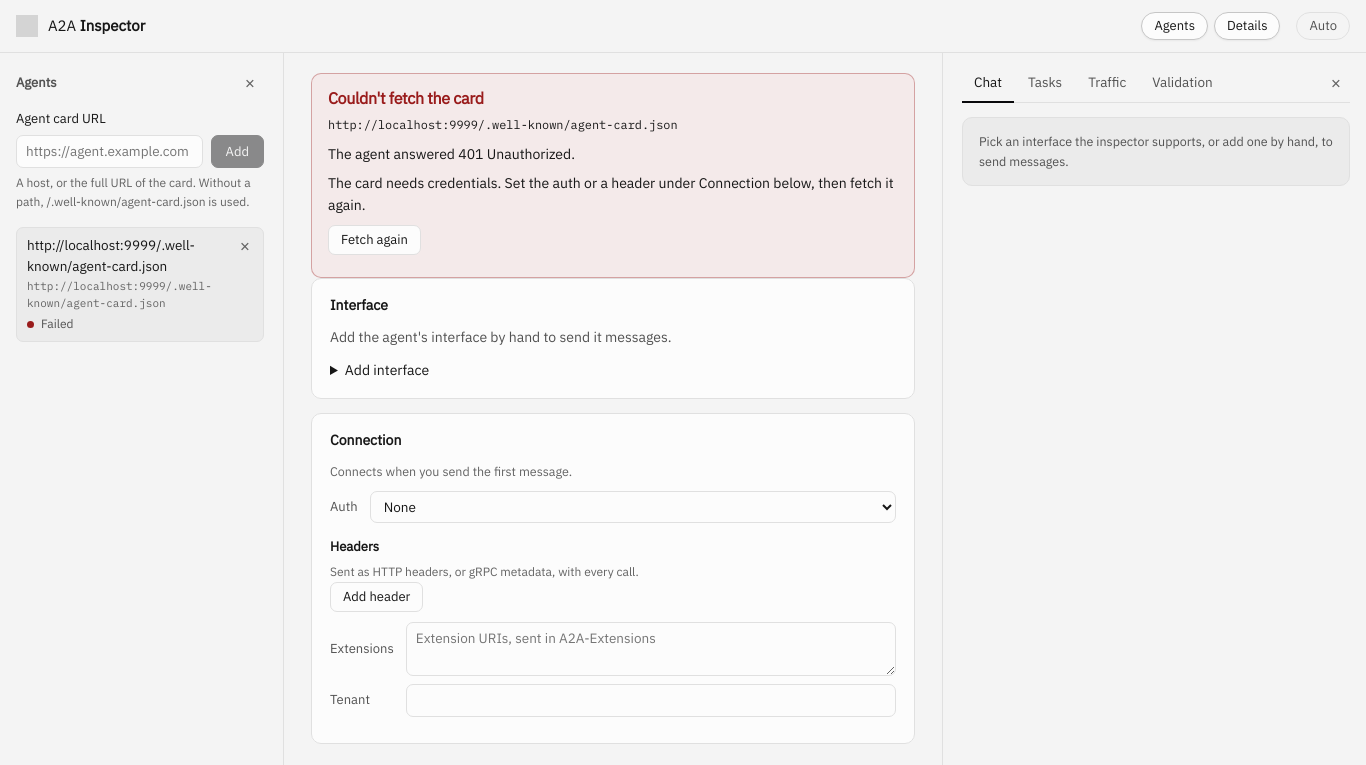
Test: App › talking to agents › fetches a protected card again with the auth set after a 401
Expected: the text "needs credentials" is shown, [328,174,894,214]
Step 1. Select "Bearer token" in the dropdown labelled "Auth" → (633,507), box [370,491,896,523]
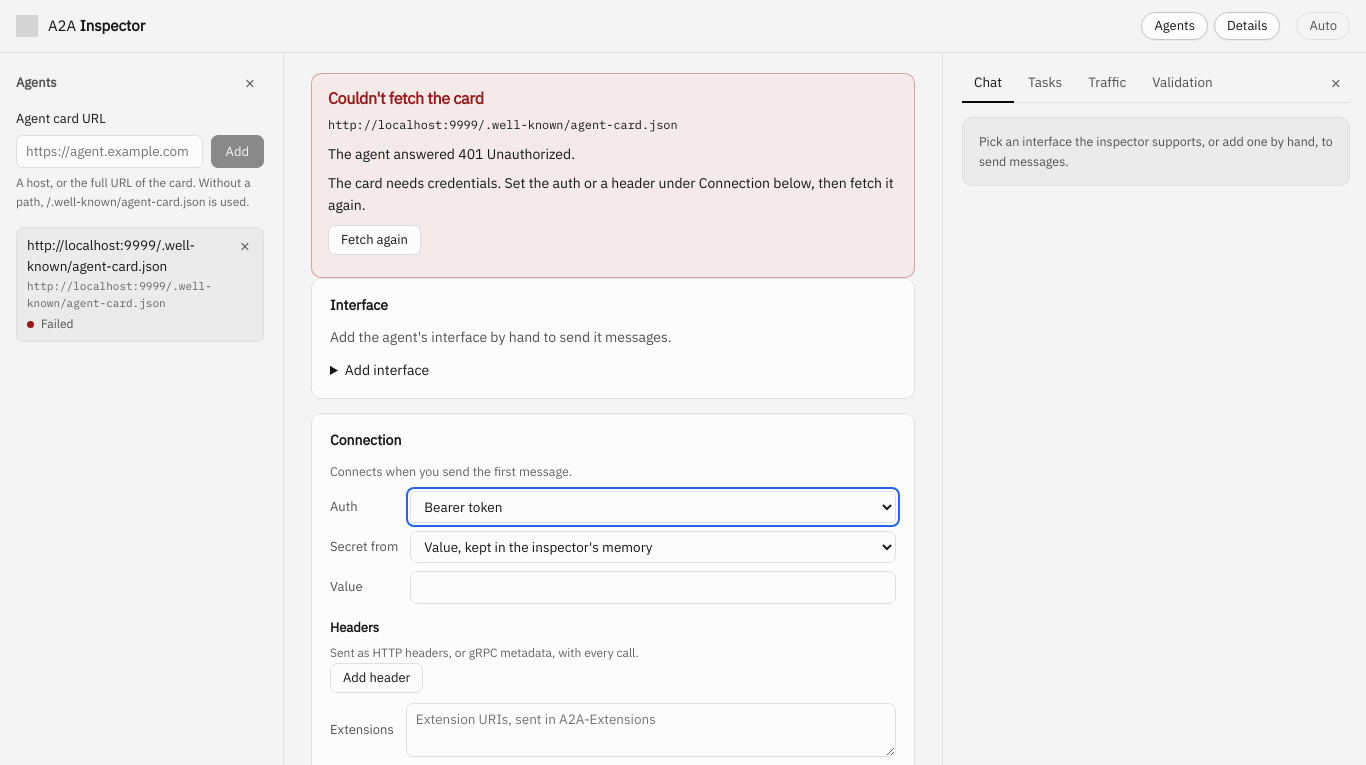
Step 2. Type "card-token" into the password field labelled "Value" → (653,587), box [410,571,896,604]
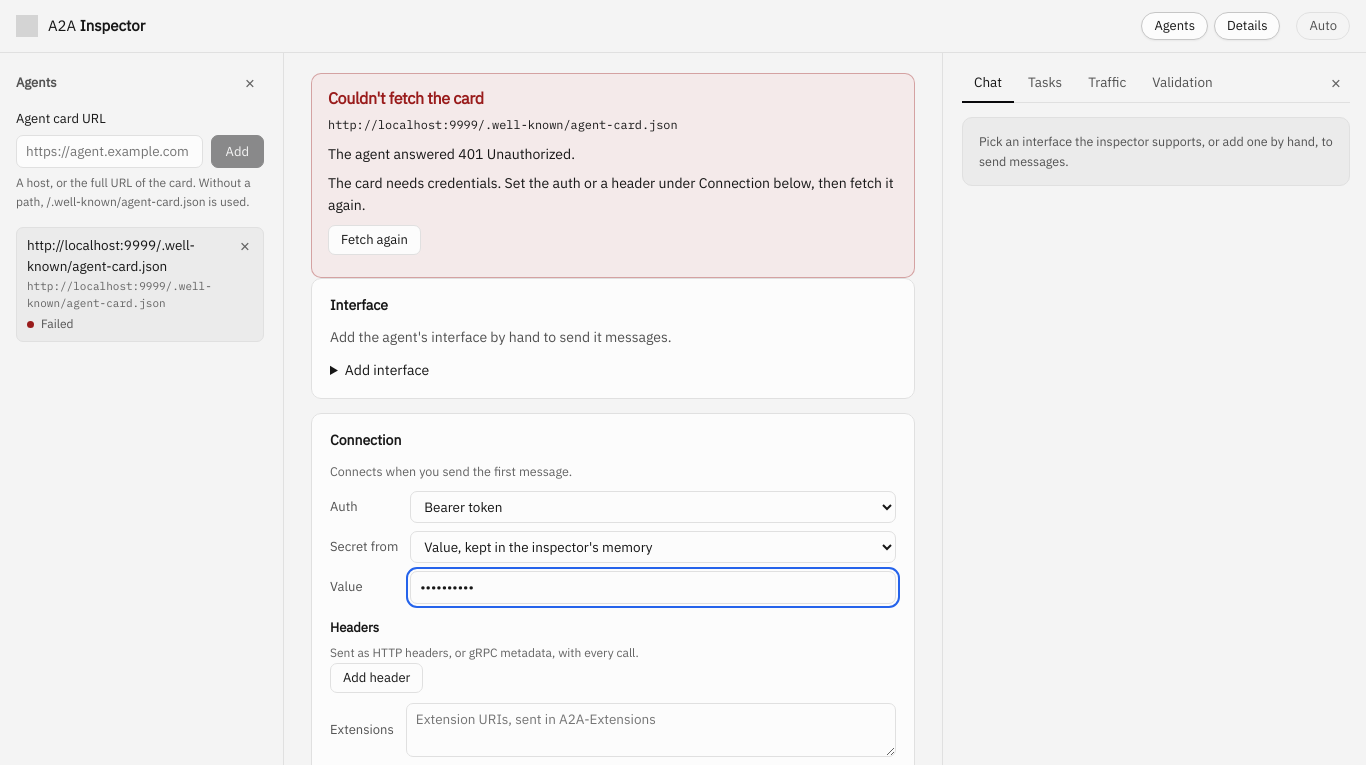
Step 3. Click the button "Fetch again" → (374,240), box [328,225,421,255]
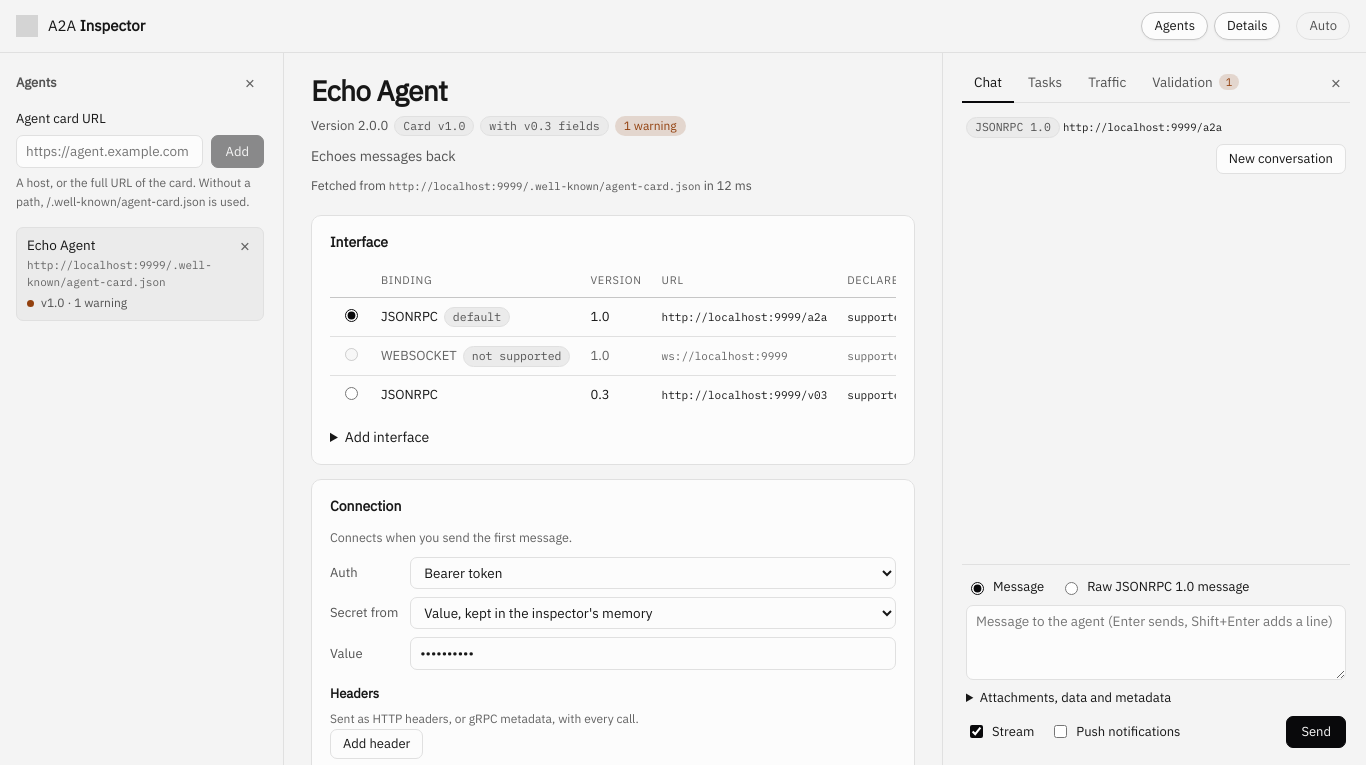
Result: the heading "Echo Agent" is shown at [311,72,447,109]
